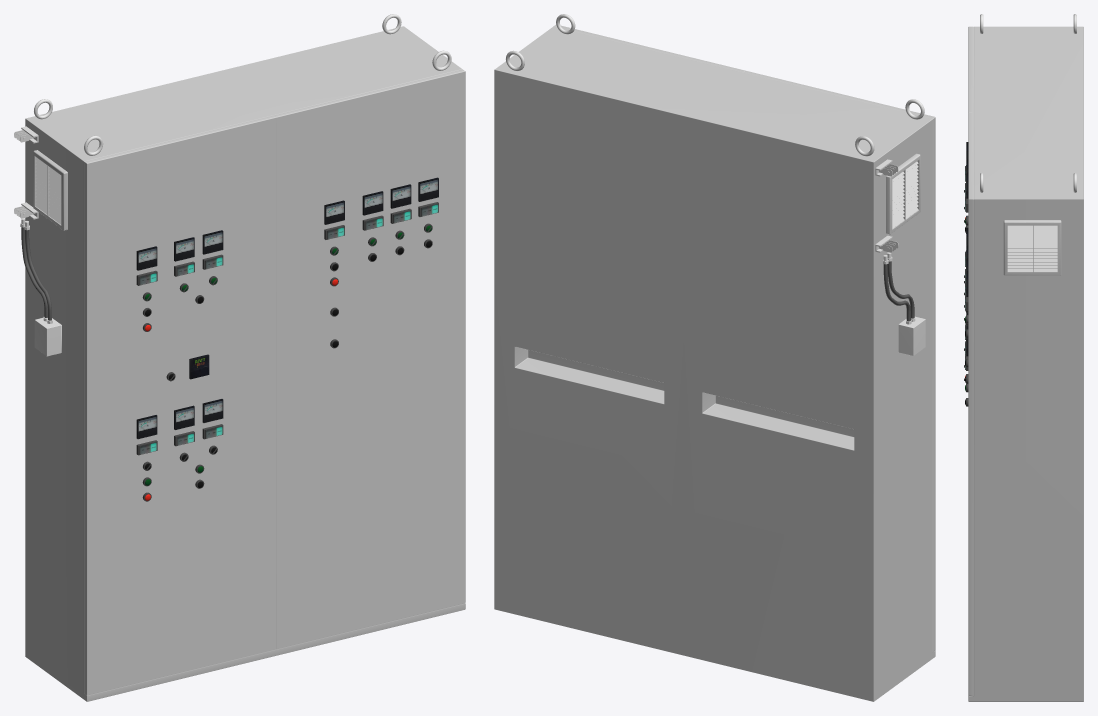
Rendered from Controller_1.glb.
3 renders of one model, left to right at view 1: azimuth 30°, elevation 25°; view 2: azimuth 150°, elevation 25°; view 3: azimuth 270°, elevation 25°, orthographic. The views are drawn at different scales.
Visible parts, largest first — view 1: steel, measure_black, metal_silver, black_rubber, box_text, black_botton, wire_black_line; view 2: steel, metal_silver; view 3: steel, black_rubber, measure_black, metal_silver.
Part boxes in pixels (<box>): steel: <box>25,26,465,701</box>; measure_black: <box>136,177,438,439</box>; metal_silver: <box>14,14,451,356</box>; black_rubber: <box>136,202,438,501</box>; box_text: <box>139,204,438,454</box>; black_botton: <box>145,225,431,500</box>; wire_black_line: <box>21,227,51,320</box>; steel: <box>494,24,935,701</box>; metal_silver: <box>505,14,925,355</box>; steel: <box>968,26,1083,701</box>; black_rubber: <box>964,165,968,406</box>; measure_black: <box>966,142,968,356</box>; metal_silver: <box>980,14,1076,192</box>.
Bounding box in the file's own units: 1.7 × 2.27 × 0.4735.
7 materials, 3 textured.
